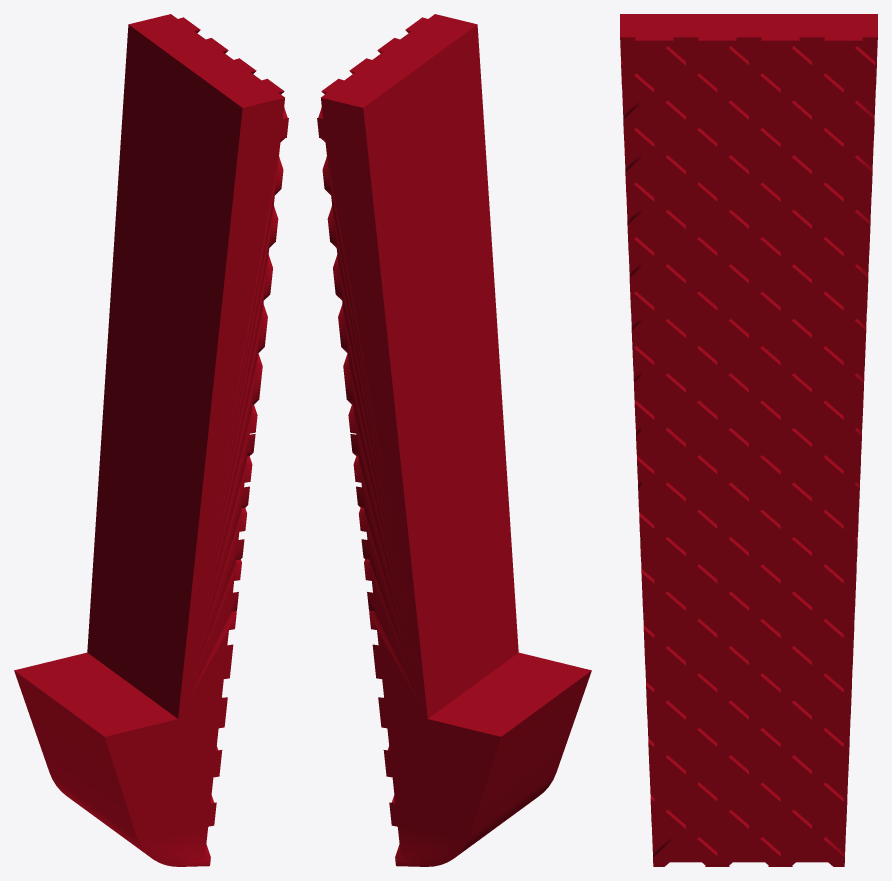
Rendered from softgriper_part2.obj.
3 renders of one model, left to right at view 1: azimuth 30°, elevation 25°; view 2: azimuth 150°, elevation 25°; view 3: azimuth 270°, elevation 25°, orthographic. The views are drawn at different scales.
Bounding box in the file's own units: 0.0166 × 0.0694 × 0.0188.
